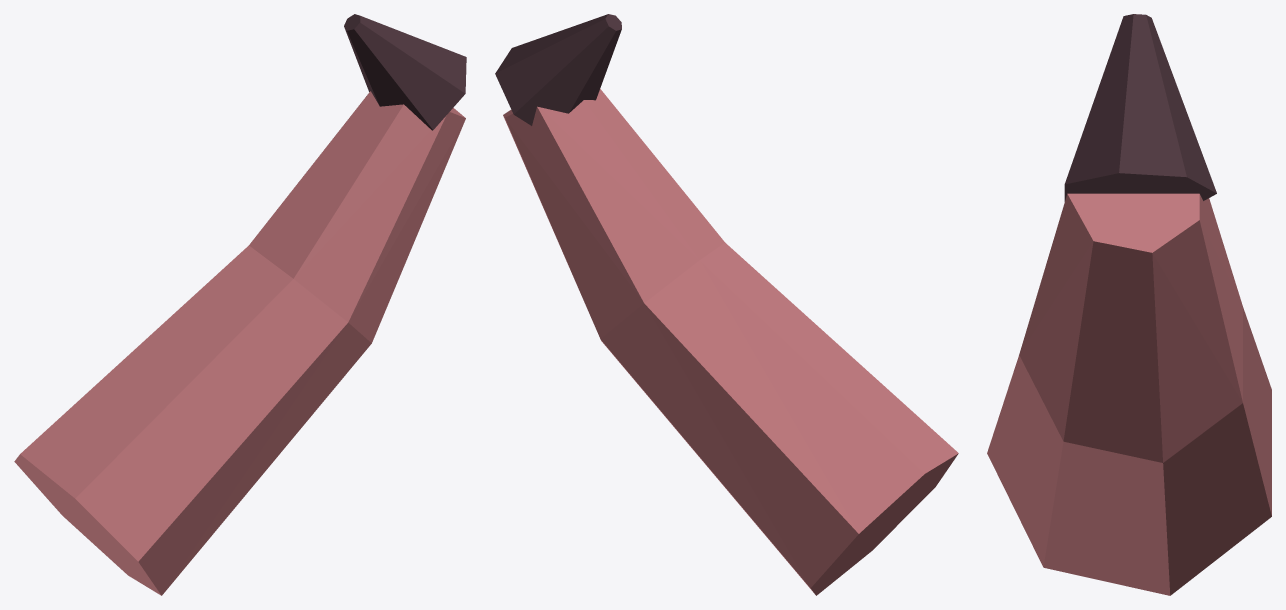
File: toughspike_appendage_0.obj
The picture shows the model from 3 angles, left to right: view 1: azimuth 30°, elevation 25°; view 2: azimuth 150°, elevation 25°; view 3: azimuth 270°, elevation 25°; orthographic projection. The views are drawn at different scales.
Visible parts, largest first — view 1: toughspike_appendage_0; view 2: toughspike_appendage_0; view 3: toughspike_appendage_0.
Part boxes in pixels (left/top/right/bottom): toughspike_appendage_0: left=14, top=14, right=466, bottom=595; toughspike_appendage_0: left=495, top=14, right=958, bottom=595; toughspike_appendage_0: left=987, top=14, right=1271, bottom=595.
Bounding box in the file's own units: 0.4282 × 0.4921 × 0.173.
